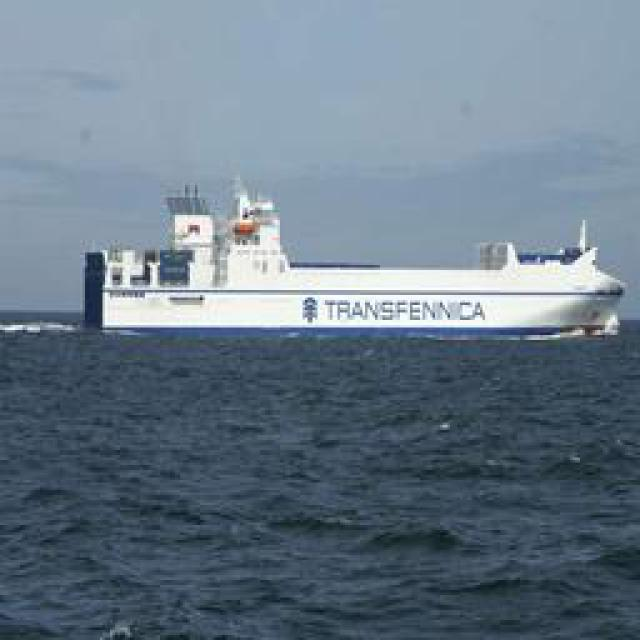Ship: (78, 199, 616, 339)
